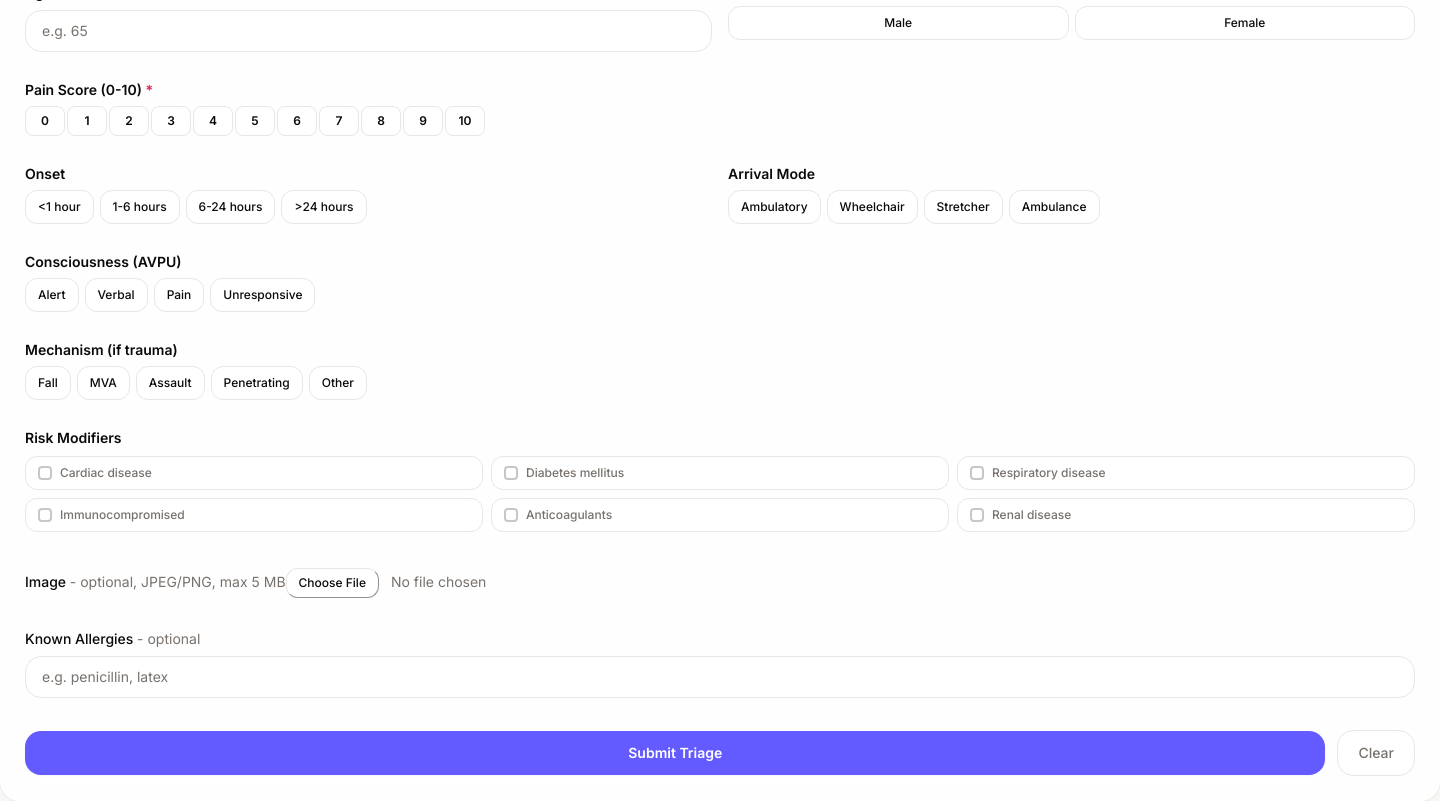
it: TriageForm › shows validation error when submitting empty form
(page scrolled)
Click the button "Submit Triage".
click(675, 753)  # box [25,731,1326,775]
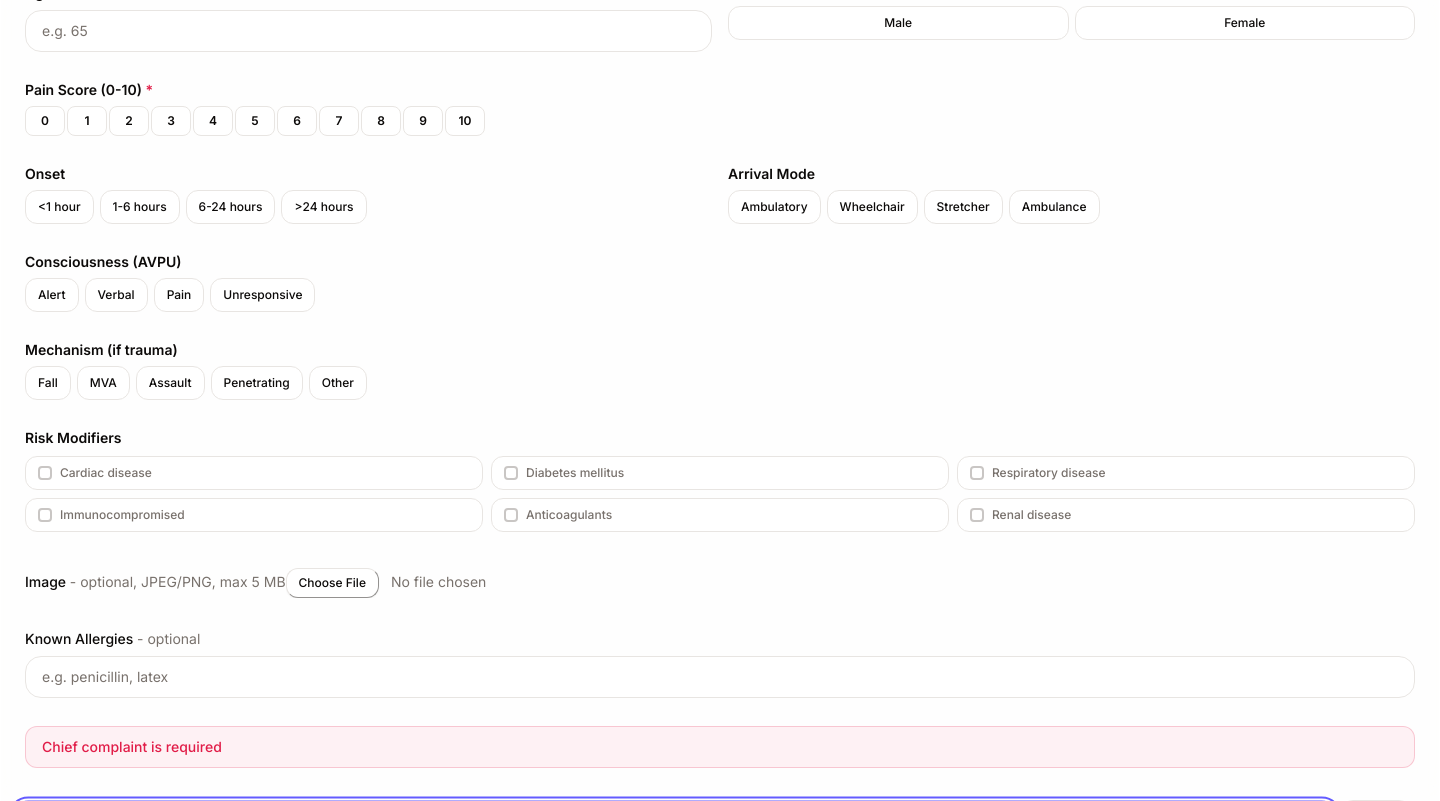
Now the text "Chief complaint is required" is shown, box [25,726,1415,768]
